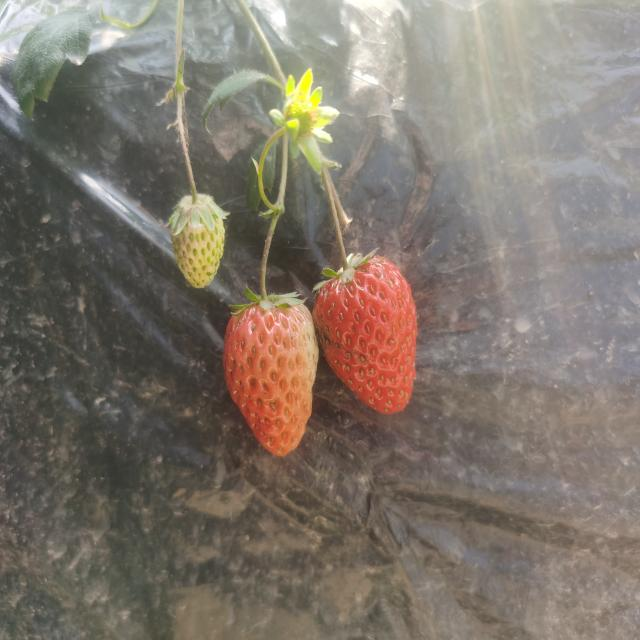stem: (330, 206, 349, 273), (260, 243, 270, 303)
strawberry: (313, 256, 417, 413), (223, 295, 319, 457)
